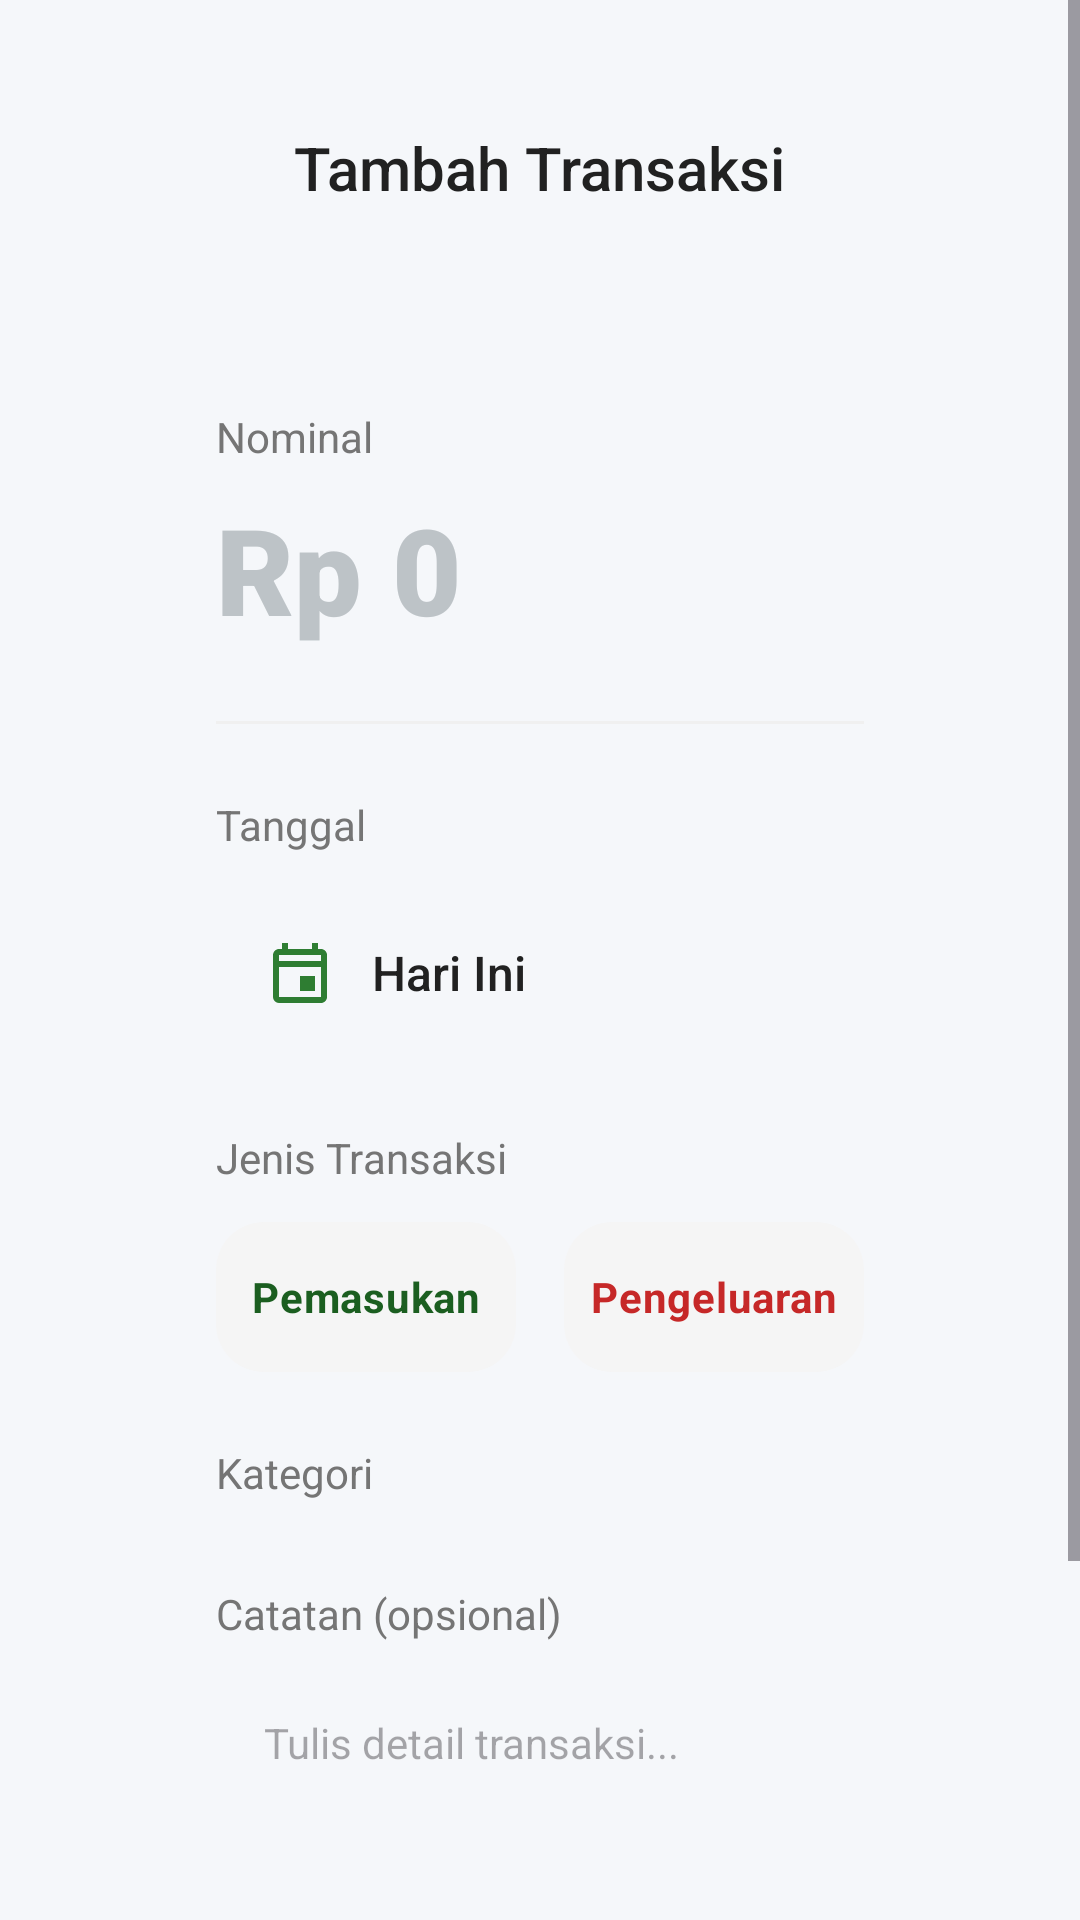

Screen size 1080×1920. Icon name, then its box in pixels as (x1, y1, x2, y2):
calendar: (273, 943, 327, 1003)
